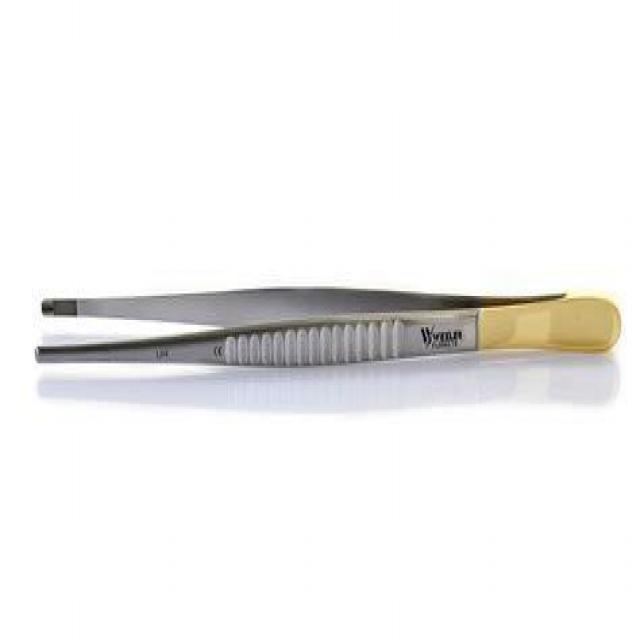Forceps: (33, 276, 626, 376)
